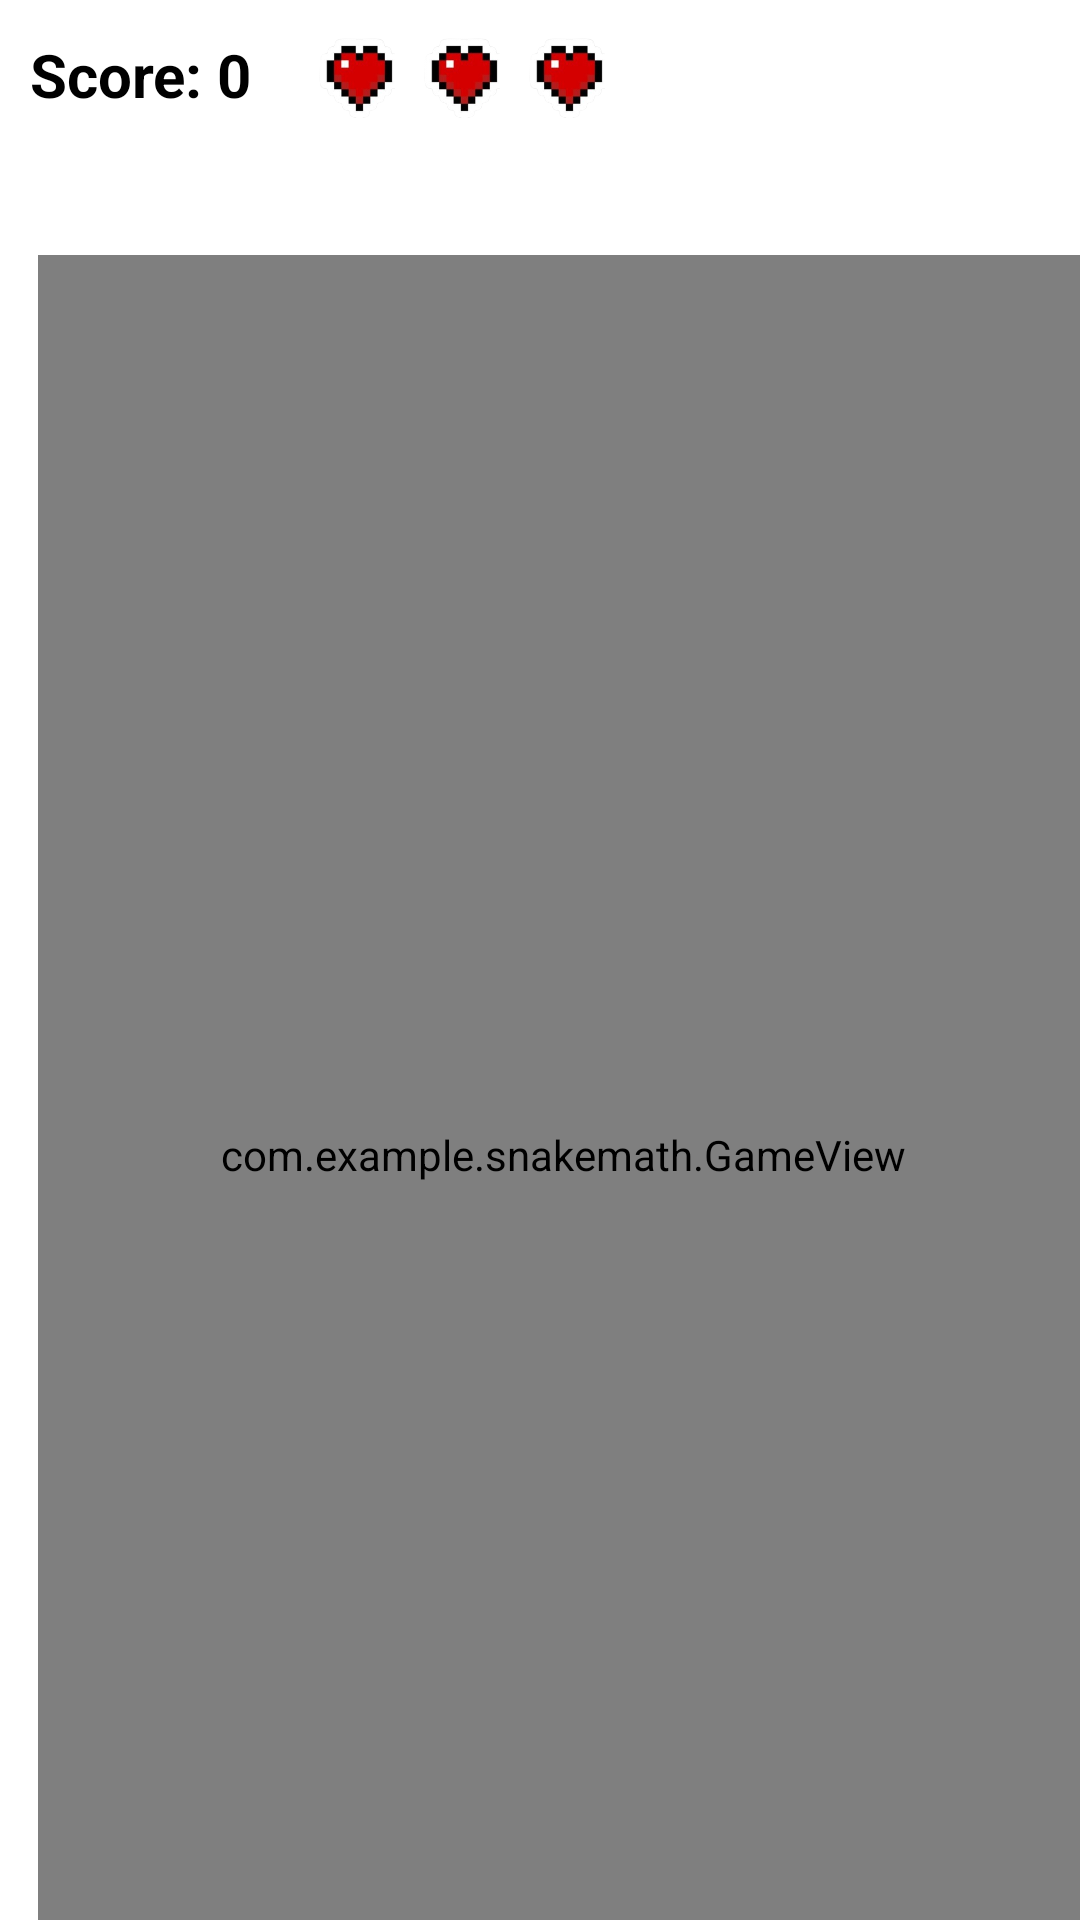

Icon bounding boxes for this 1080 x 1920 phone screenshot, format (x1, y1, x2, y2):
vidafull: (326, 45, 393, 111), (431, 45, 498, 111), (536, 45, 603, 111)
